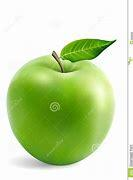apple: (6, 48, 115, 161)
